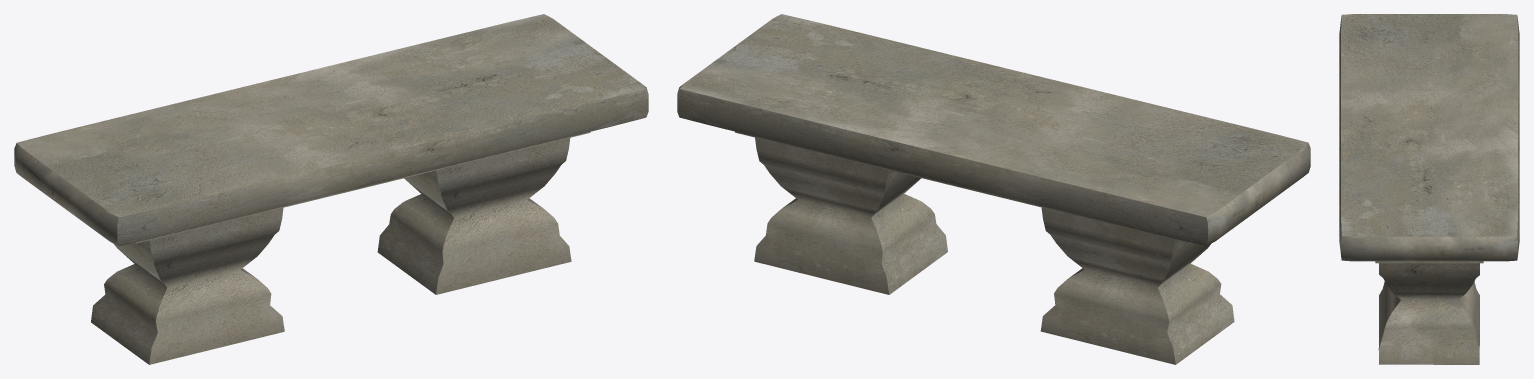
Rendered from stone_bench.glb.
3 views of the same model, side by side, from view 1: azimuth 30°, elevation 25°; view 2: azimuth 150°, elevation 25°; view 3: azimuth 270°, elevation 25° (orthographic). The views are drawn at different scales.
Visible parts, largest first — view 1: Banco_2; view 2: Banco_2; view 3: Banco_2.
Boxes of the visible parts, x1,y1,x2,y2 form: Banco_2: (14, 14, 648, 364); Banco_2: (677, 14, 1310, 364); Banco_2: (1339, 14, 1519, 364).
Size of the model in its own units: 5.23 by 1.63 by 1.76.
Materials: 1 (1 with a texture image).
